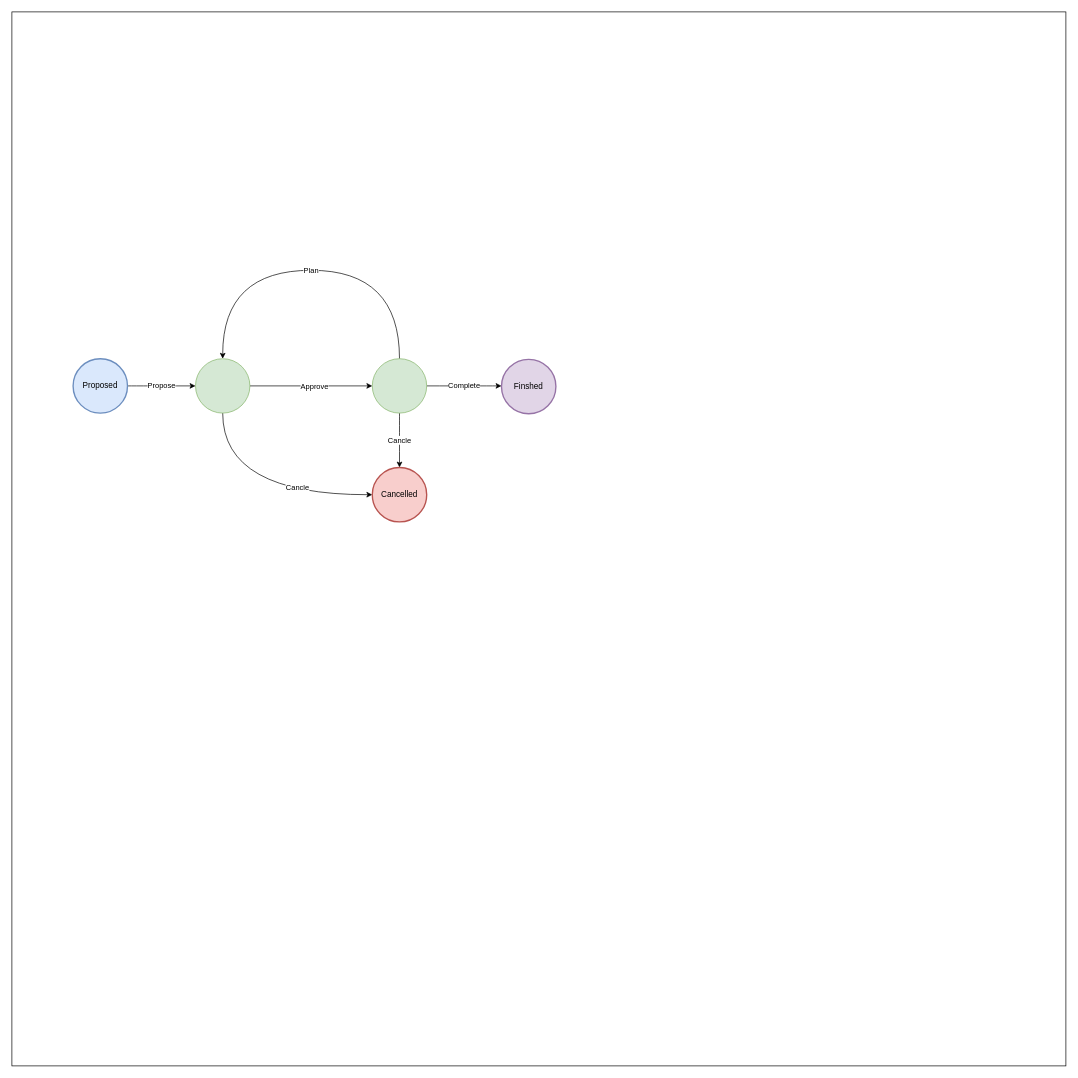
Image size: 1078x1078. Some labels were removed from this diagram. The shapes that lost their labels are listed below. From the top down, each one's centre as x and y in pixels, then its label:
At [222,385]: "Inplanning".
At [399,385]: "InProgress".
